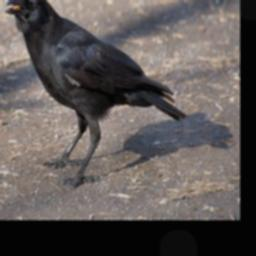Crow: (4, 0, 187, 189)
